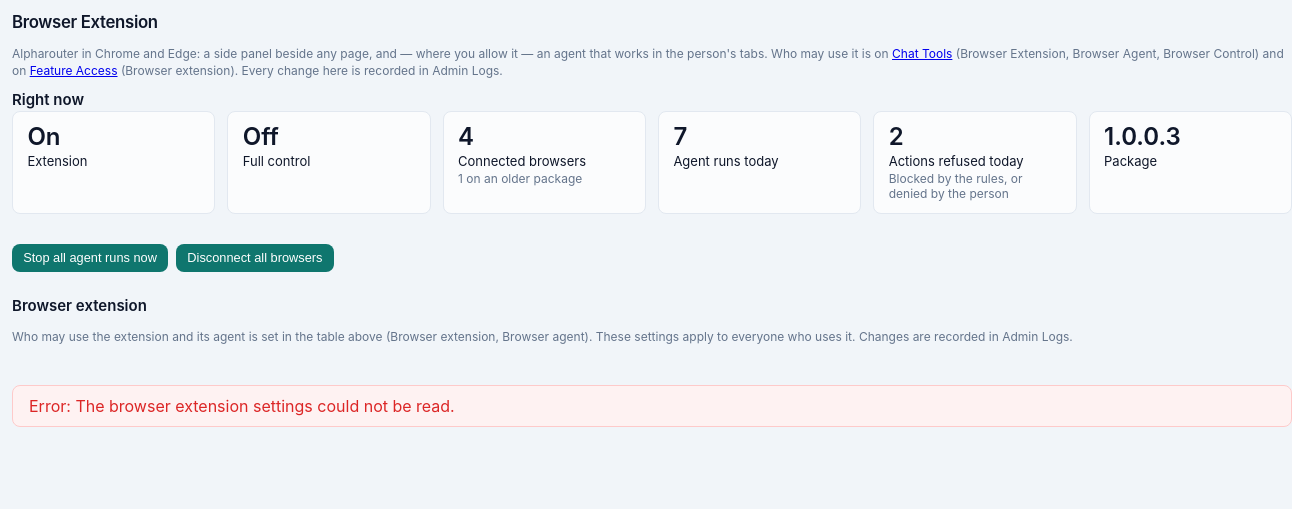
it: the Browser Extension page › disconnects every browser and counts them
Click the button "Disconnect all browsers".
click(255, 258)  # box x1=176 y1=244 x2=334 y2=272
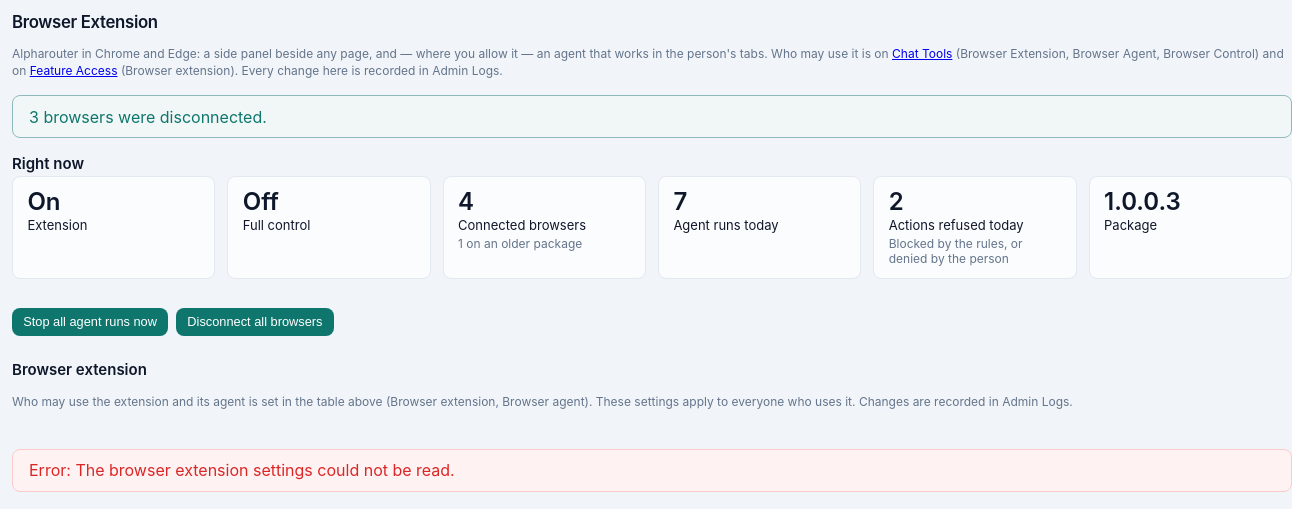
Expected: the text "3 browsers were disconnected." is shown, x1=12 y1=95 x2=1291 y2=138
